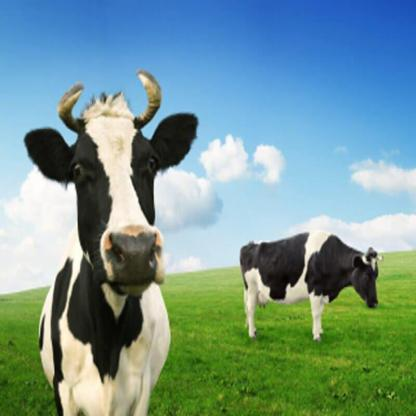cow: (23, 68, 198, 416), (240, 231, 383, 340)
